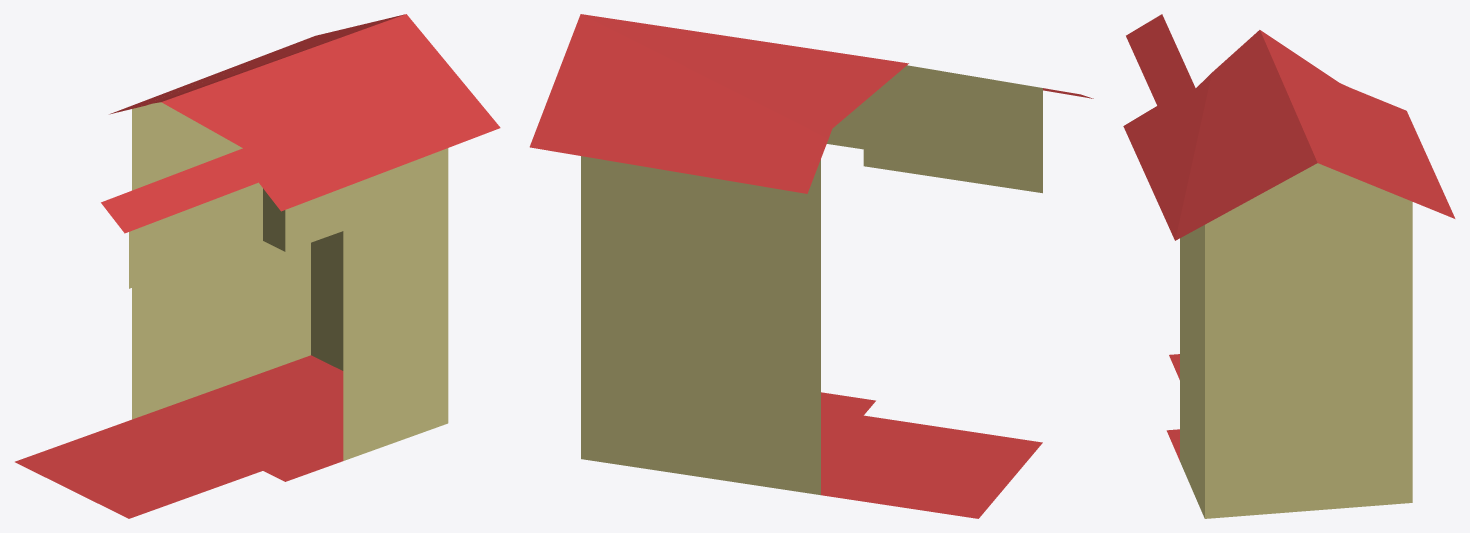
3 views of the same model, side by side, from view 1: azimuth 30°, elevation 25°; view 2: azimuth 150°, elevation 25°; view 3: azimuth 270°, elevation 25° (orthographic). The views are drawn at different scales.
Bounding box in the file's own units: 12.63 × 8.97 × 10.81.
